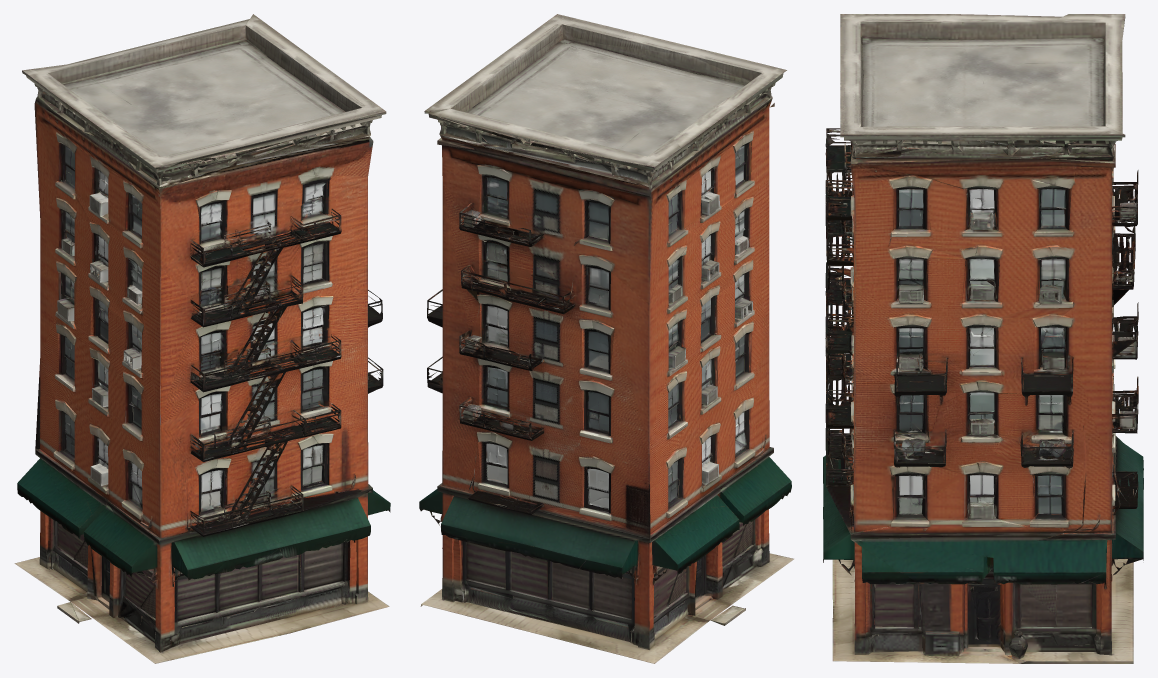
The model's file is city-tenement.glb.
The picture shows the model from 3 angles, left to right: view 1: azimuth 30°, elevation 25°; view 2: azimuth 150°, elevation 25°; view 3: azimuth 270°, elevation 25°; orthographic projection. The views are drawn at different scales.
Bounding box in the file's own units: 1.09 × 1.9 × 1.04.
Materials: 1 (1 with a texture image).
